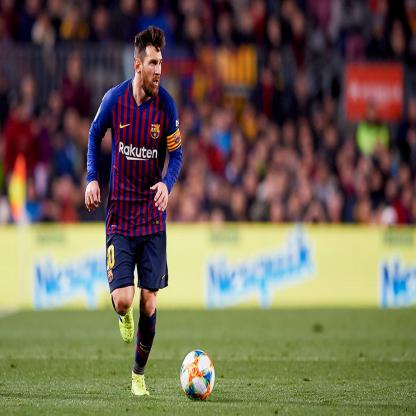football player standing: (90, 29, 175, 396)
